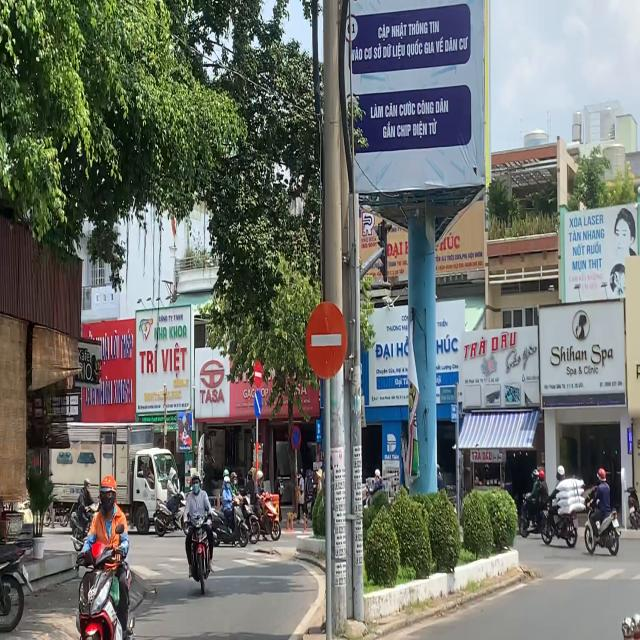Cam do: (290, 426, 302, 451)
Cam nguoc chieu: (304, 298, 349, 382), (254, 361, 263, 388)
Hieu lenh: (254, 391, 262, 418)
